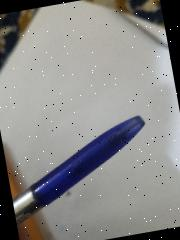plastic: (2, 114, 159, 226)
